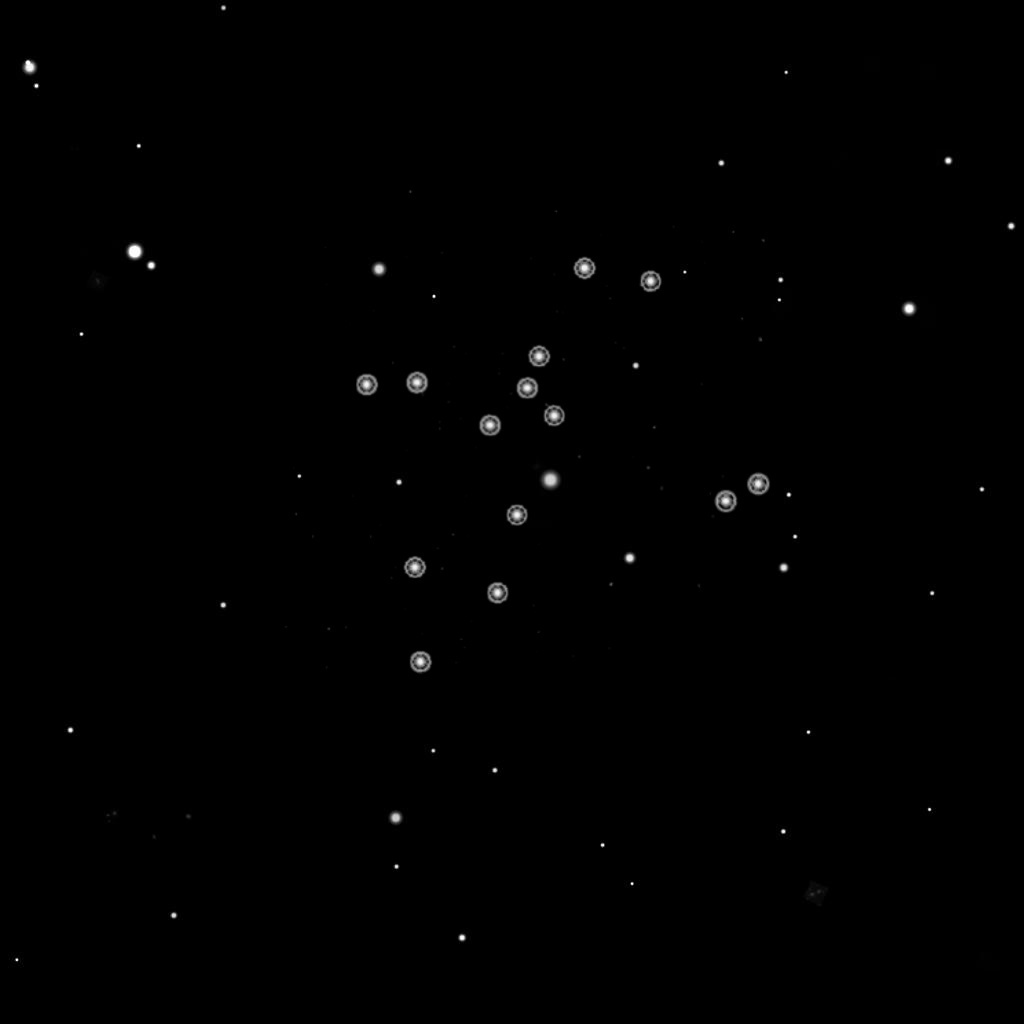canis_major: (474, 253, 667, 444)
